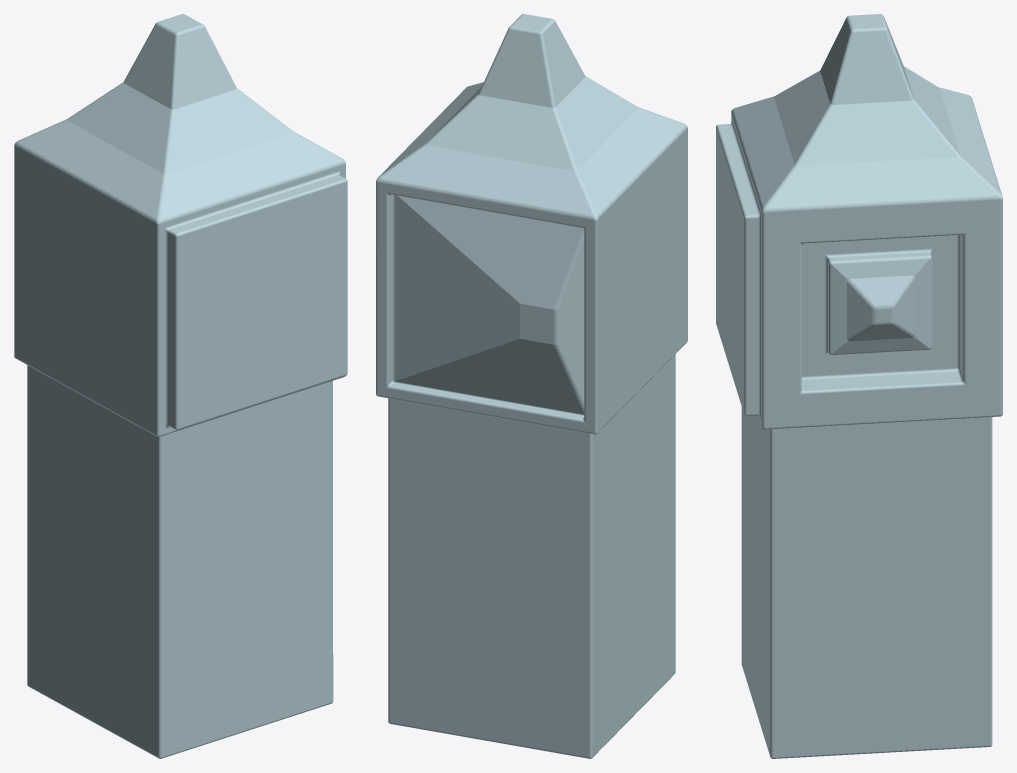
The model's file is WallCornerAlt.fbx.
The picture shows the model from 3 angles, left to right: view 1: azimuth 30°, elevation 25°; view 2: azimuth 150°, elevation 25°; view 3: azimuth 270°, elevation 25°; orthographic projection.
Visible parts, largest first — view 1: Cube.015; view 2: Cube.015; view 3: Cube.015.
Boxes of the visible parts, left/top/right/bottom form: Cube.015: left=14, top=14, right=347, bottom=758; Cube.015: left=376, top=14, right=687, bottom=758; Cube.015: left=716, top=14, right=1002, bottom=758.
Bounding box in the file's own units: 224 × 622 × 236.
